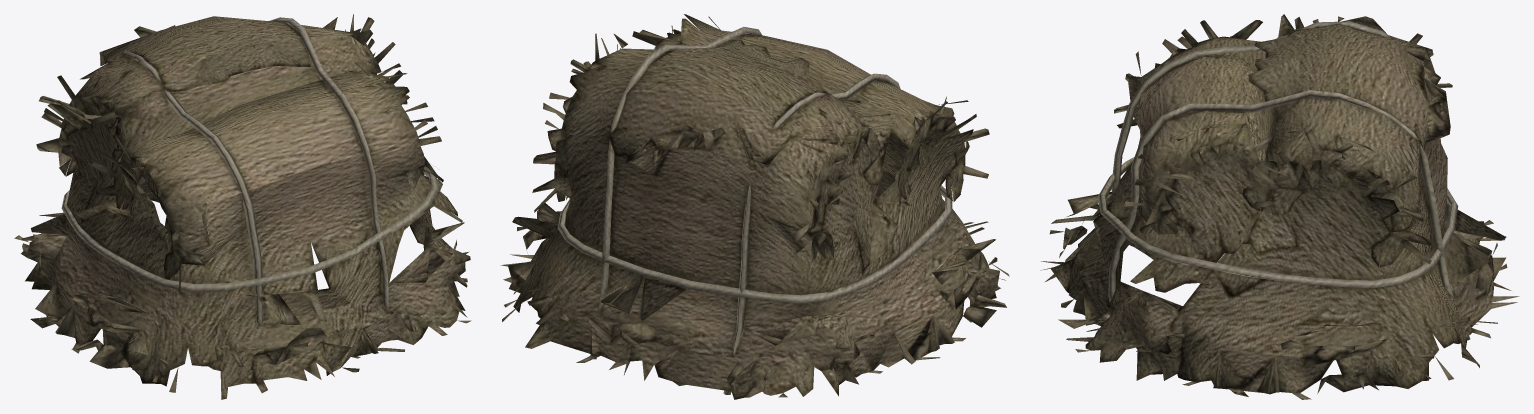
File: hay.glb
The picture shows the model from 3 angles, left to right: view 1: azimuth 30°, elevation 25°; view 2: azimuth 150°, elevation 25°; view 3: azimuth 270°, elevation 25°; orthographic projection. The views are drawn at different scales.
Visible parts, largest first — view 1: model; view 2: model; view 3: model.
Boxes of the visible parts, x1,y1,x2,y2 form: model: [14, 14, 471, 399]; model: [500, 14, 1009, 399]; model: [1040, 14, 1519, 399].
Bounding box in the file's own units: 1.65 × 1 × 1.65.
1 material, 1 textured.
